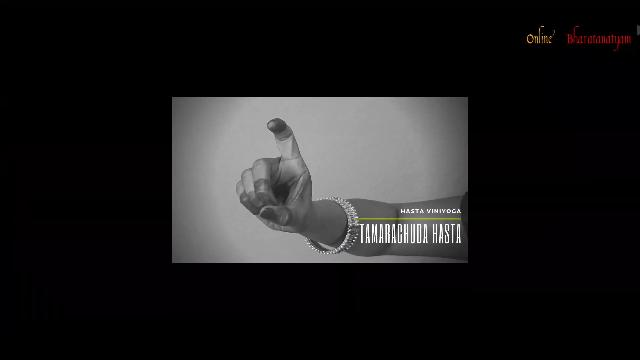tamrachud: (231, 113, 321, 235)
